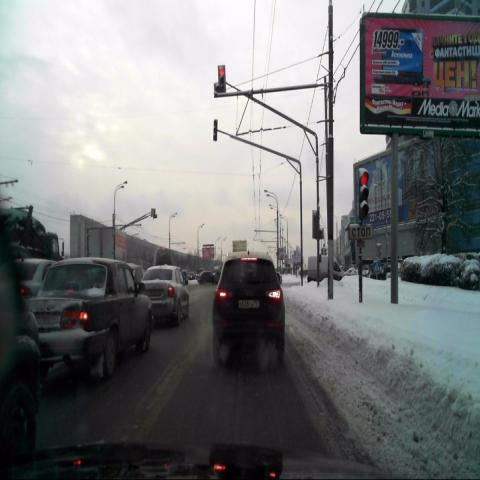6_16: (350, 224, 374, 240)
